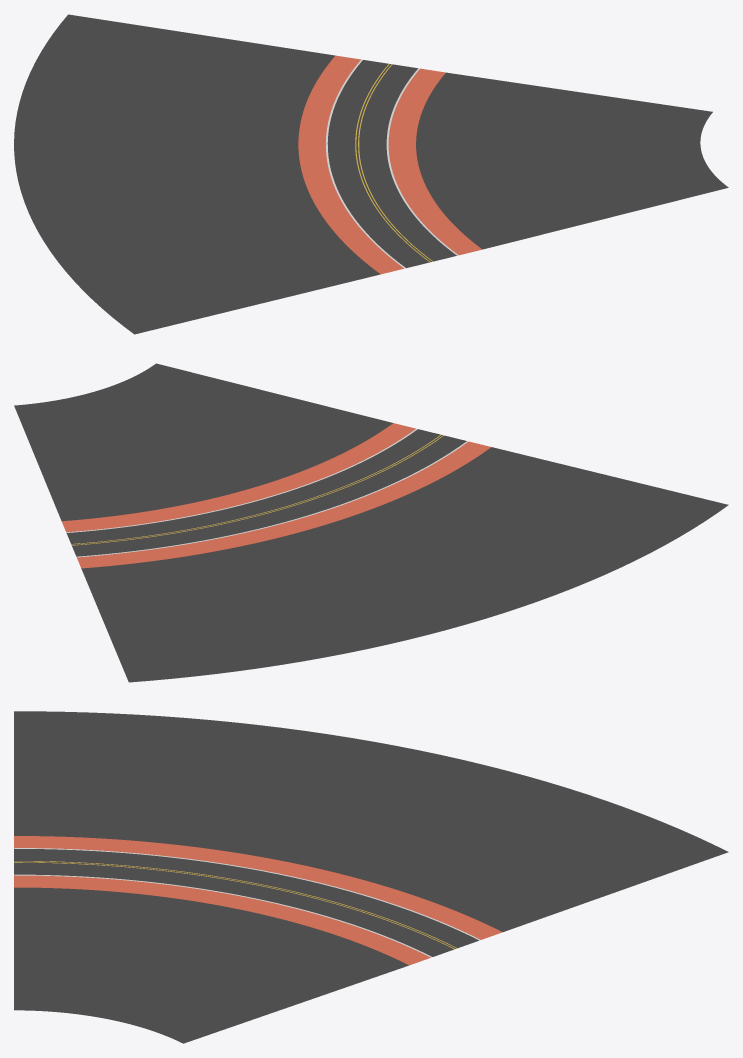
File: NewYork_Road_L_50_001.fbx
The picture shows the model from 3 angles, top to bottom: view 1: azimuth 30°, elevation 25°; view 2: azimuth 150°, elevation 25°; view 3: azimuth 270°, elevation 25°; orthographic projection. The views are drawn at different scales.
Parts seen in each view (by area): view 1: NewYork_Road_L_50_001; view 2: NewYork_Road_L_50_001; view 3: NewYork_Road_L_50_001.
Part boxes in pixels (left/top/right/bottom): NewYork_Road_L_50_001: left=14, top=14, right=728, bottom=334; NewYork_Road_L_50_001: left=14, top=363, right=728, bottom=682; NewYork_Road_L_50_001: left=14, top=711, right=728, bottom=1043.
Bounding box in the file's own units: 77.76 × 0.2 × 70.27.
